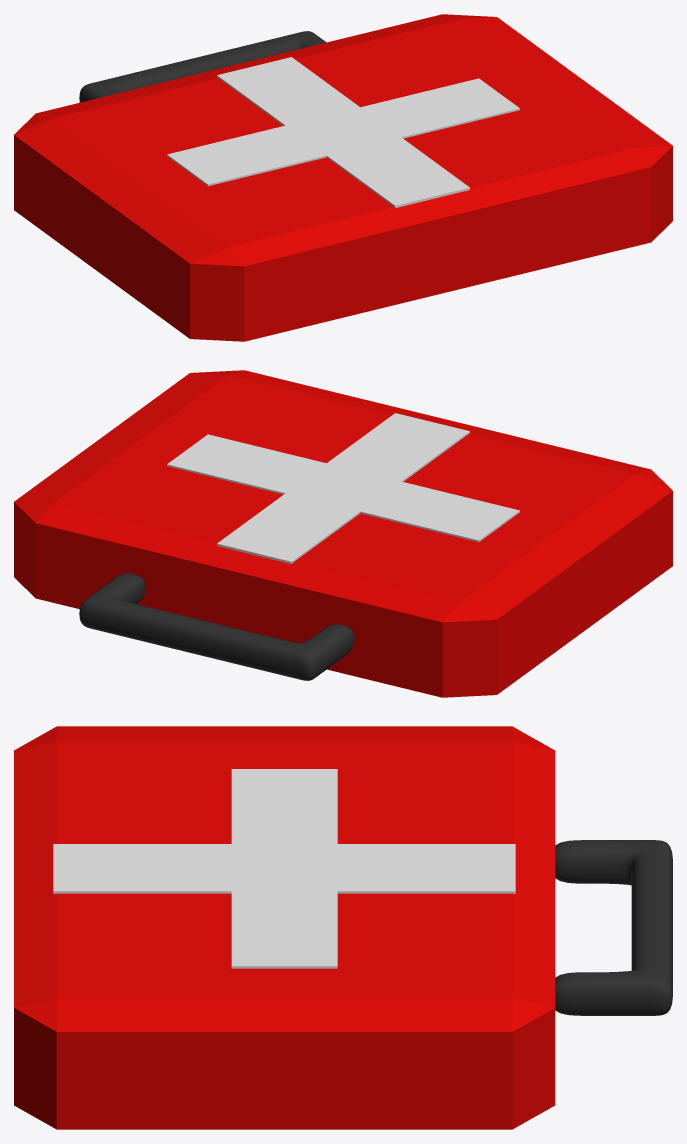
Rendered from Medkit.fbx.
The picture shows the model from 3 angles, top to bottom: view 1: azimuth 30°, elevation 25°; view 2: azimuth 150°, elevation 25°; view 3: azimuth 270°, elevation 25°; orthographic projection. The views are drawn at different scales.
Visible parts, largest first — view 1: Cube.004, Cube.007, Cube.006; view 2: Cube.004, Cube.007, Cube.006; view 3: Cube.004, Cube.007, Cube.006.
Boxes of the visible parts, left/top/right/bottom form: Cube.004: left=14, top=14, right=672, bottom=341; Cube.007: left=167, top=57, right=519, bottom=207; Cube.006: left=79, top=31, right=326, bottom=102; Cube.004: left=14, top=370, right=672, bottom=697; Cube.007: left=167, top=413, right=519, bottom=563; Cube.006: left=79, top=573, right=354, bottom=680; Cube.004: left=14, top=726, right=555, bottom=1129; Cube.007: left=53, top=769, right=515, bottom=968; Cube.006: left=555, top=840, right=672, bottom=1015.
Size of the model in its own units: 267 by 48.25 by 244.
